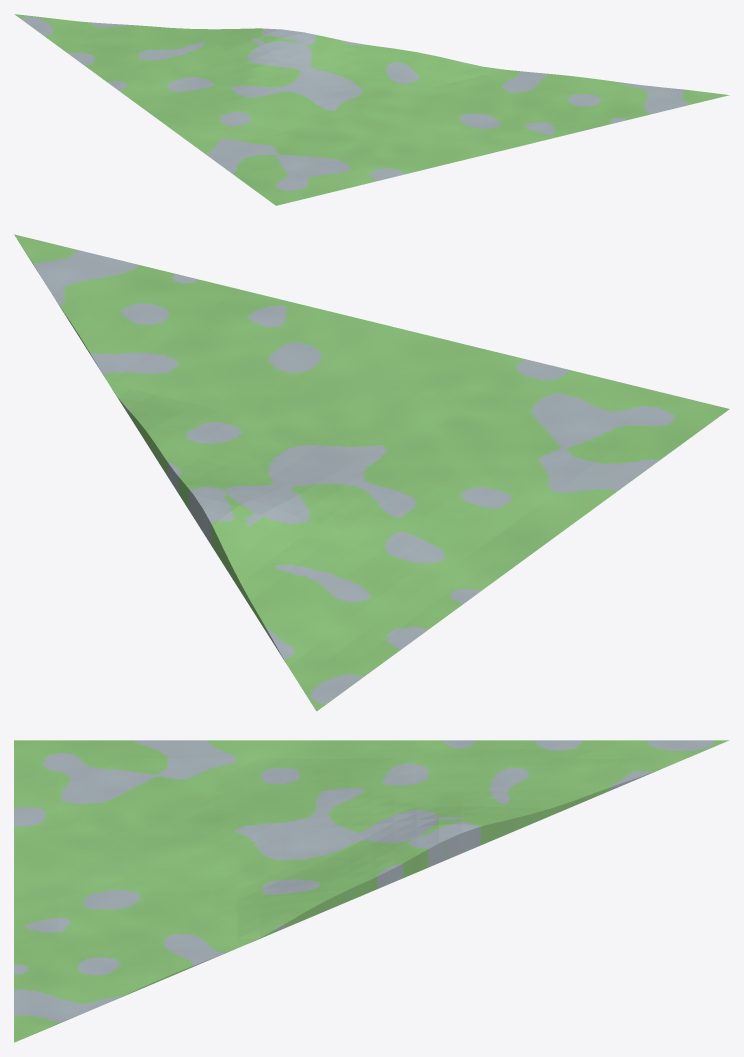
Rendered from Grass_RockyGround_05_NW.obj.
3 views of the same model, one above another, from view 1: azimuth 30°, elevation 25°; view 2: azimuth 150°, elevation 25°; view 3: azimuth 270°, elevation 25° (orthographic). The views are drawn at different scales.
Bounding box in the file's own units: 10 × 0.3158 × 10.
Materials: 1 (1 with a texture image).
